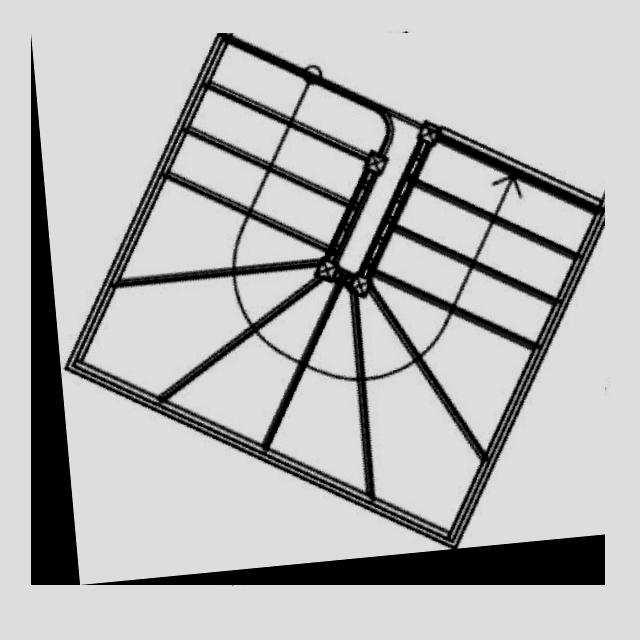stair: (31, 33, 605, 585)
